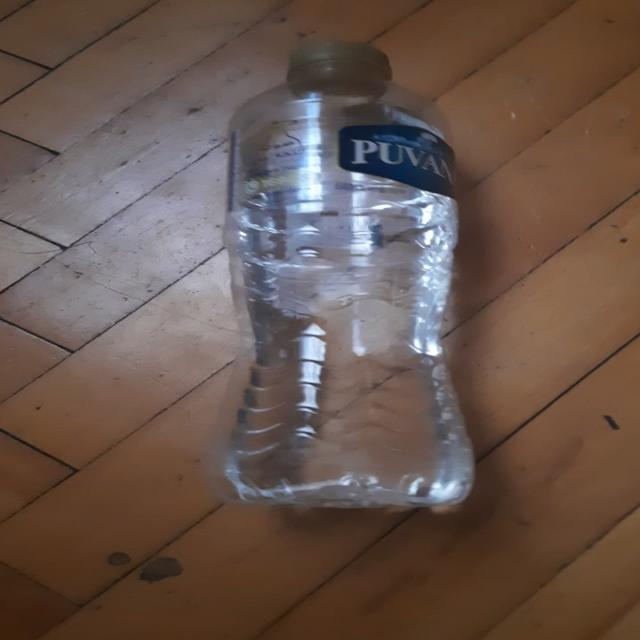Plastic: (223, 36, 476, 514)
